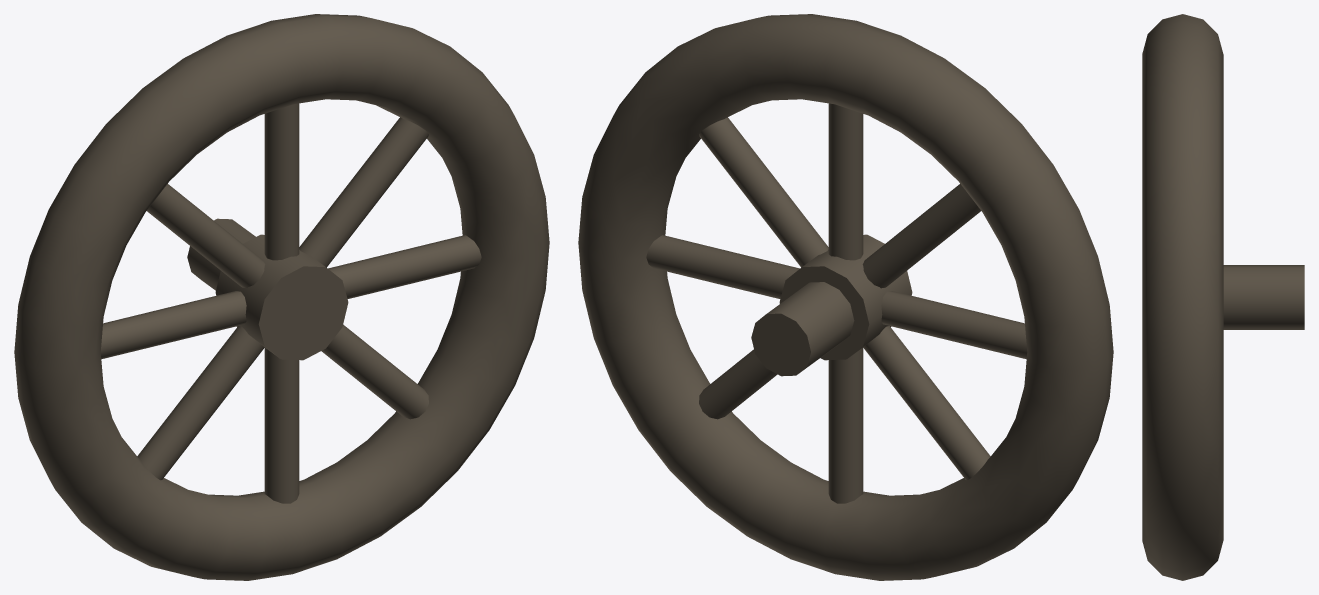
The model's file is Valve.FBX.
3 views of the same model, side by side, from view 1: azimuth 30°, elevation 25°; view 2: azimuth 150°, elevation 25°; view 3: azimuth 270°, elevation 25° (orthographic). The views are drawn at different scales.
Visible parts, largest first — view 1: Valve; view 2: Valve; view 3: Valve.
Part boxes in pixels (bbox=[...]): Valve: bbox=[14, 14, 549, 580]; Valve: bbox=[578, 14, 1113, 580]; Valve: bbox=[1142, 14, 1304, 580].
Size of what is drawn, in the model's own units: 35 by 10 by 35.
